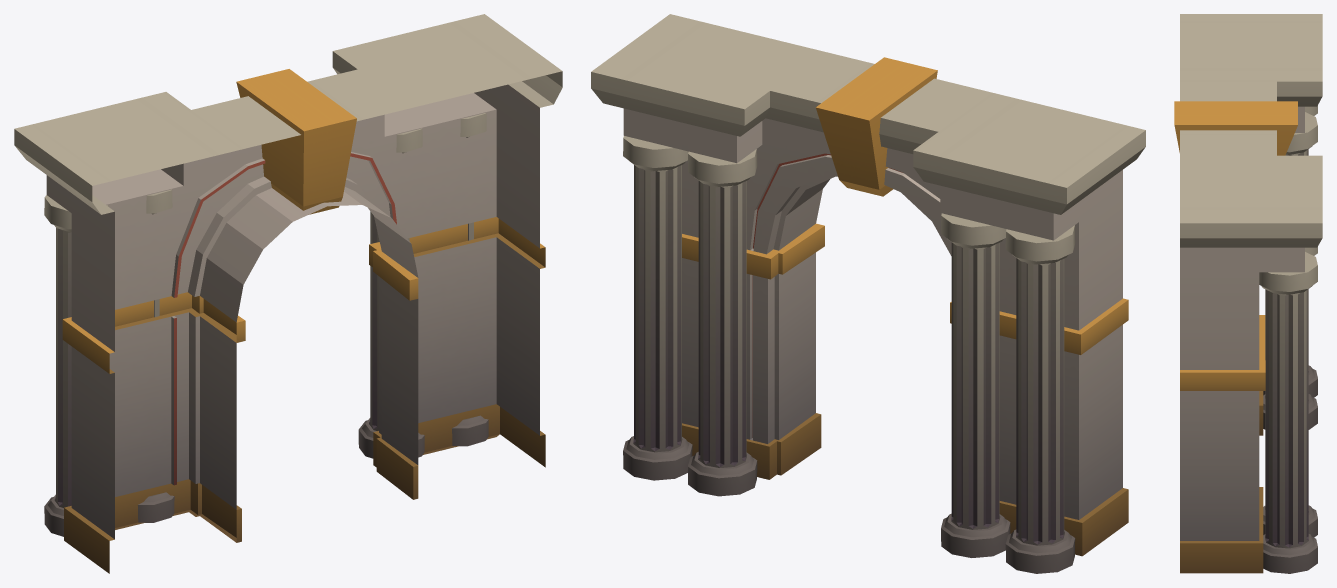
Rendered from Obstaculo_ArcoT.fbx.
The picture shows the model from 3 angles, left to right: view 1: azimuth 30°, elevation 25°; view 2: azimuth 150°, elevation 25°; view 3: azimuth 270°, elevation 25°; orthographic projection. The views are drawn at different scales.
Parts seen in each view (by area): view 1: ArcoT; view 2: ArcoT; view 3: ArcoT.
Part boxes in pixels (<box>): ArcoT: <box>14,14,562,573</box>; ArcoT: <box>591,14,1145,573</box>; ArcoT: <box>1174,14,1322,573</box>.
Size of the model in its own units: 1667 by 1349 by 498.
